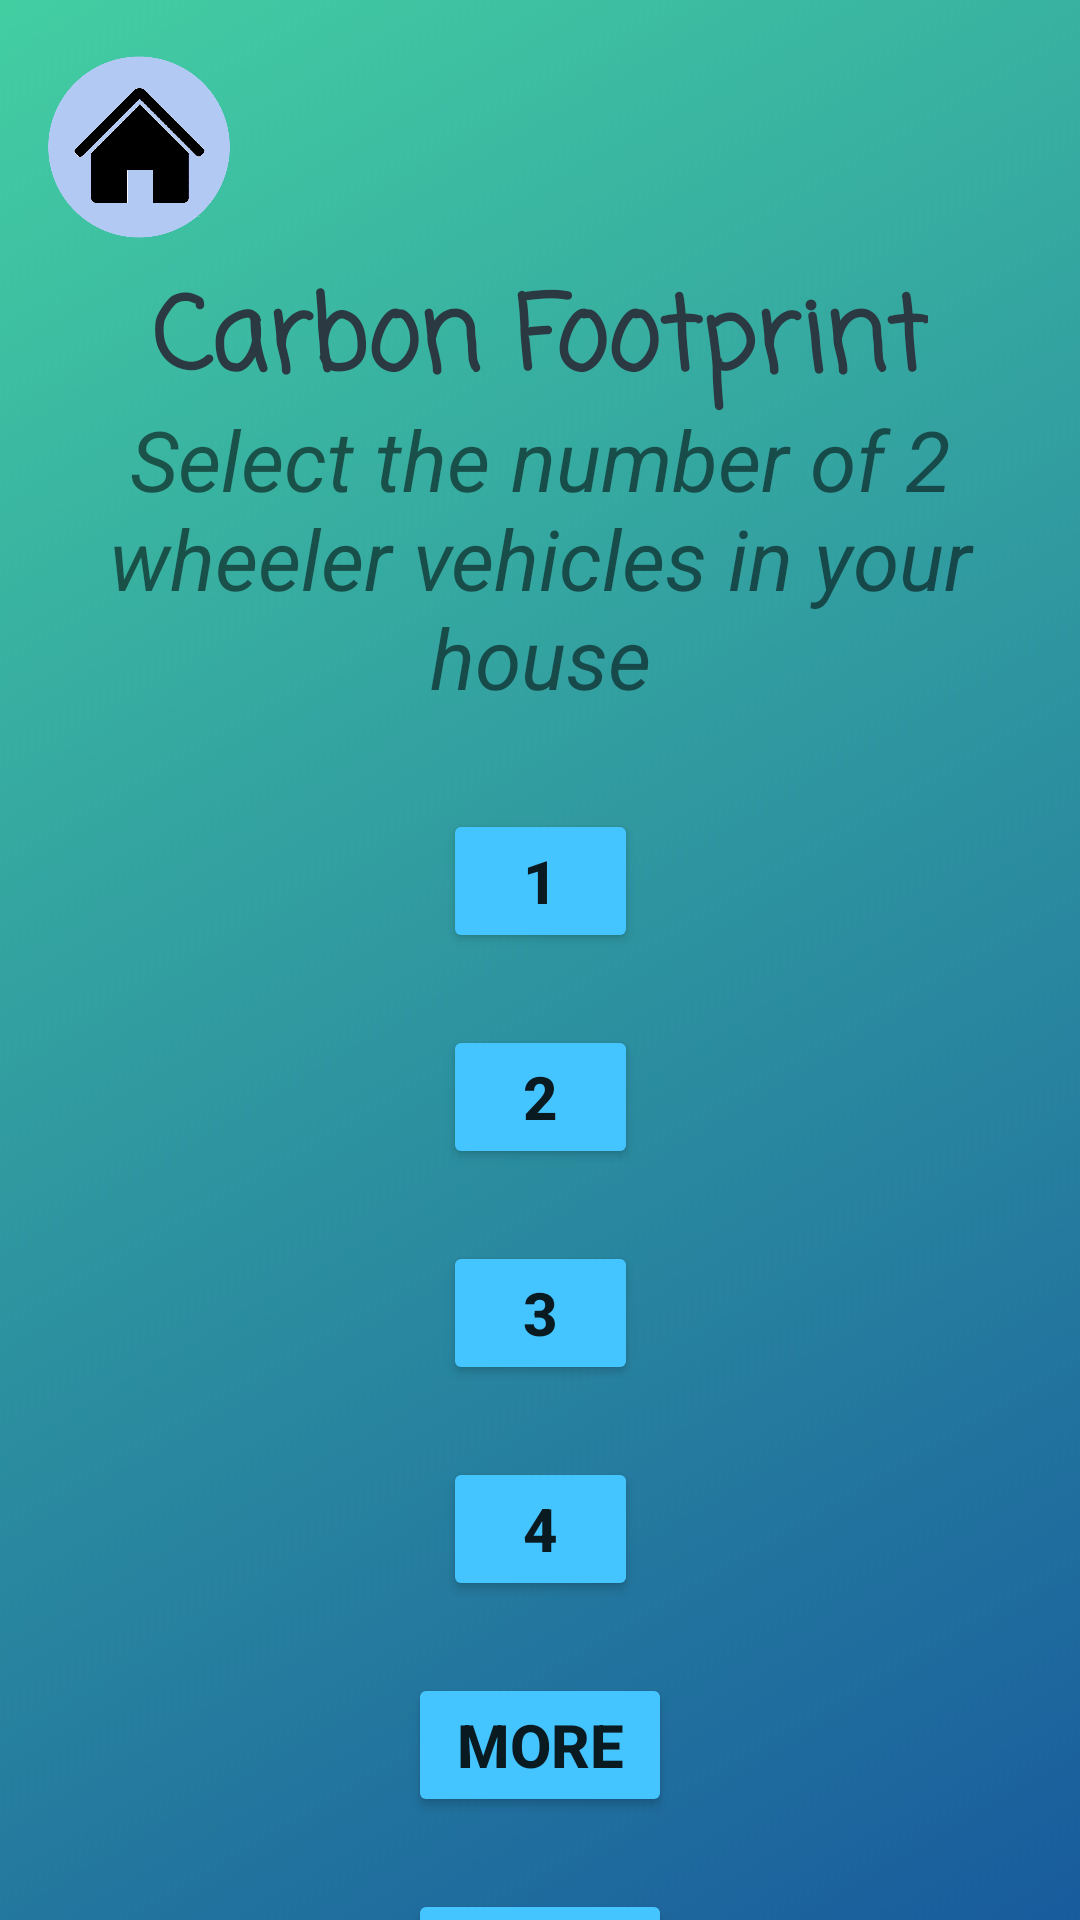

Icons on this 1080px x 1920px Android screen, each with the point to tap as point (x, y):
home: point (139, 147)
